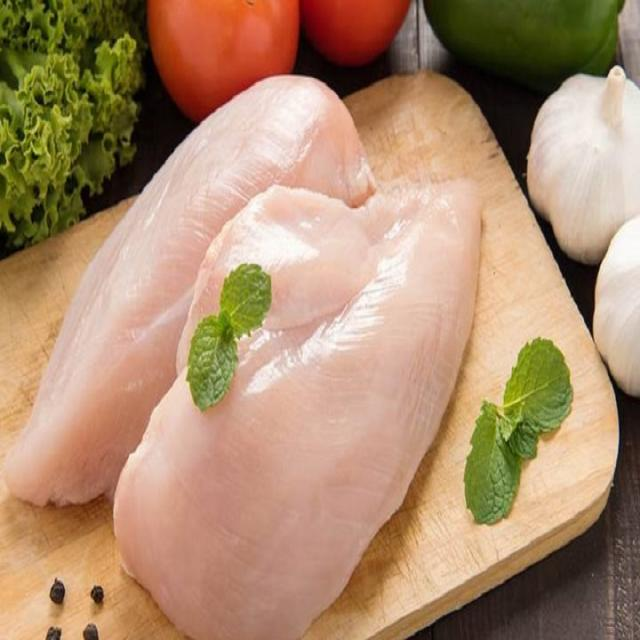chicken: (18, 78, 483, 634), (115, 196, 482, 634), (14, 80, 377, 518)
